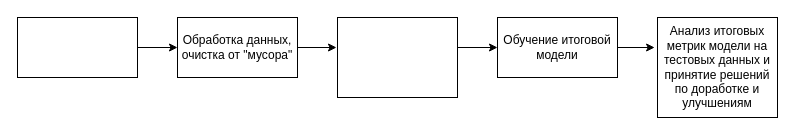
Some shapes in this 795 by 135 pixel diagram are drawn without their labels. The centre of each missing label's shape, as x and y in pixels:
"Обучение небольшой нейросети для проверки качества данных" belongs at pixel 397 57.
"Сбор данных" belongs at pixel 77 47.
